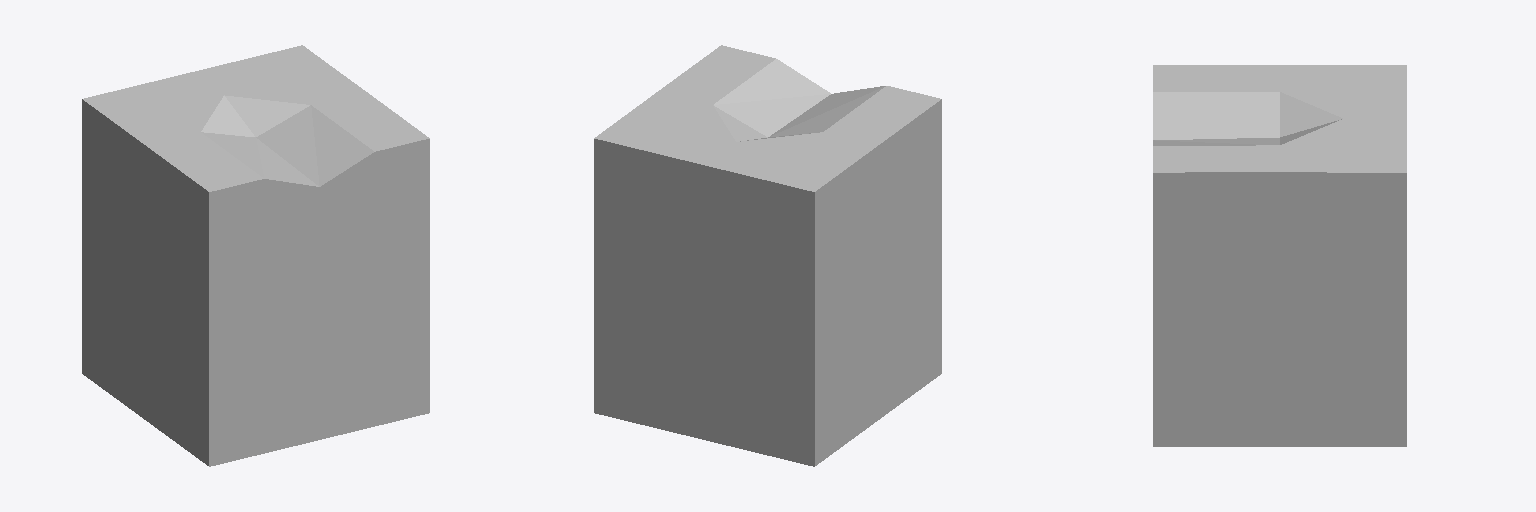
File: TD_Waterwalkway_BaseEnd.obj
The picture shows the model from 3 angles: view 1: azimuth 30°, elevation 25°; view 2: azimuth 150°, elevation 25°; view 3: azimuth 270°, elevation 25°; orthographic projection.
Visible parts, largest first — view 1: pCube20; view 2: pCube20; view 3: pCube20.
Boxes of the visible parts, <box> form: pCube20: <box>82,45,429,466</box>; pCube20: <box>594,45,941,466</box>; pCube20: <box>1153,65,1406,446</box>.
Bounding box in the file's own units: 2 × 2.38 × 2.